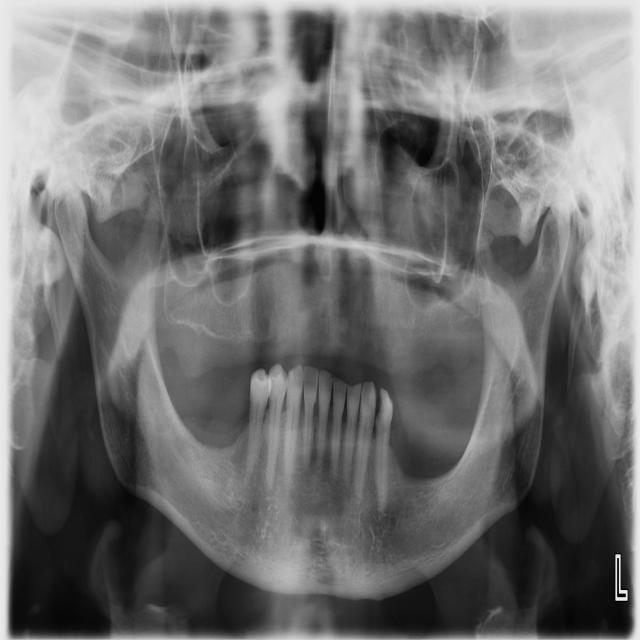mandibula: (54, 181, 569, 600)
